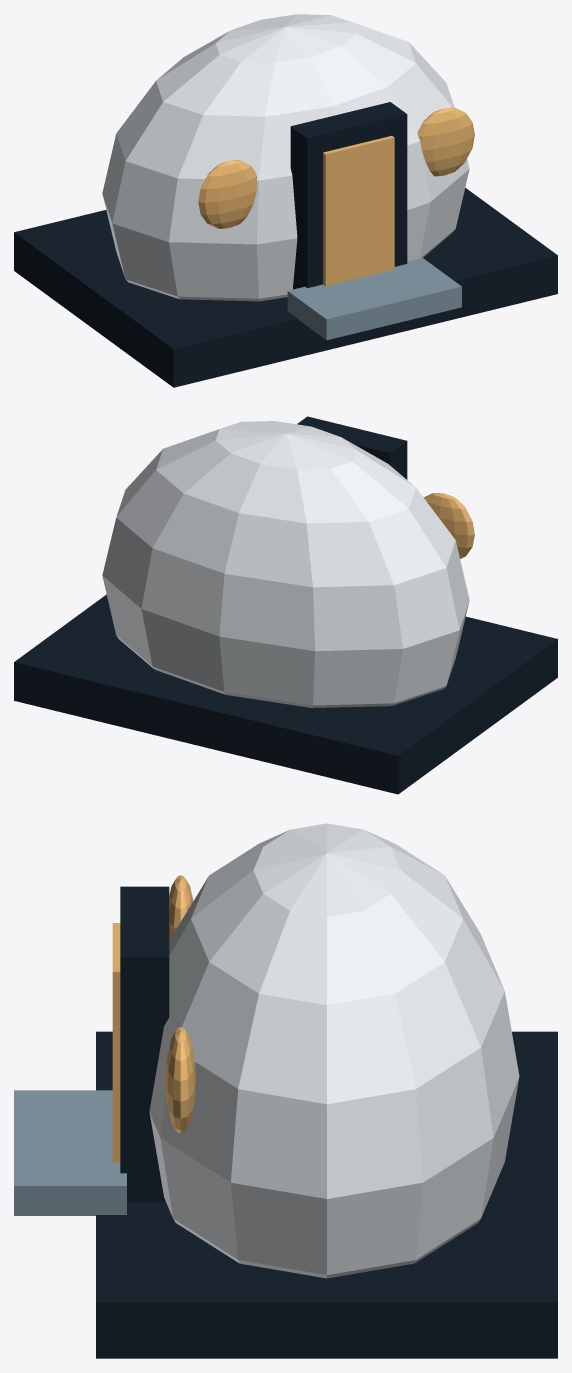
File: station-hatch.glb
The picture shows the model from 3 angles, top to bottom: view 1: azimuth 30°, elevation 25°; view 2: azimuth 150°, elevation 25°; view 3: azimuth 270°, elevation 25°; orthographic projection. The views are drawn at different scales.
Visible parts, largest first — view 1: habitat-shell, foundation, warm-door, door-rim, step, window (×2); view 2: habitat-shell, foundation, door-rim, window; view 3: habitat-shell, foundation, door-rim, step, window (×2), warm-door.
Boxes of the visible parts, x1,y1,x2,y2 form: habitat-shell: (102, 14, 469, 301); foundation: (14, 188, 557, 387); warm-door: (323, 135, 394, 286); door-rim: (290, 102, 407, 289); step: (287, 258, 461, 340); window (×2): (198, 107, 474, 228); habitat-shell: (102, 421, 469, 708); foundation: (14, 594, 557, 794); door-rim: (297, 416, 407, 479); window: (423, 493, 474, 558); habitat-shell: (149, 823, 519, 1278); foundation: (96, 1031, 557, 1358); door-rim: (120, 886, 169, 1202); step: (14, 1090, 126, 1215); window (×2): (165, 875, 196, 1133); warm-door: (112, 923, 120, 1162).
Bounding box in the file's own units: 2.5 × 1.92 × 2.12.
